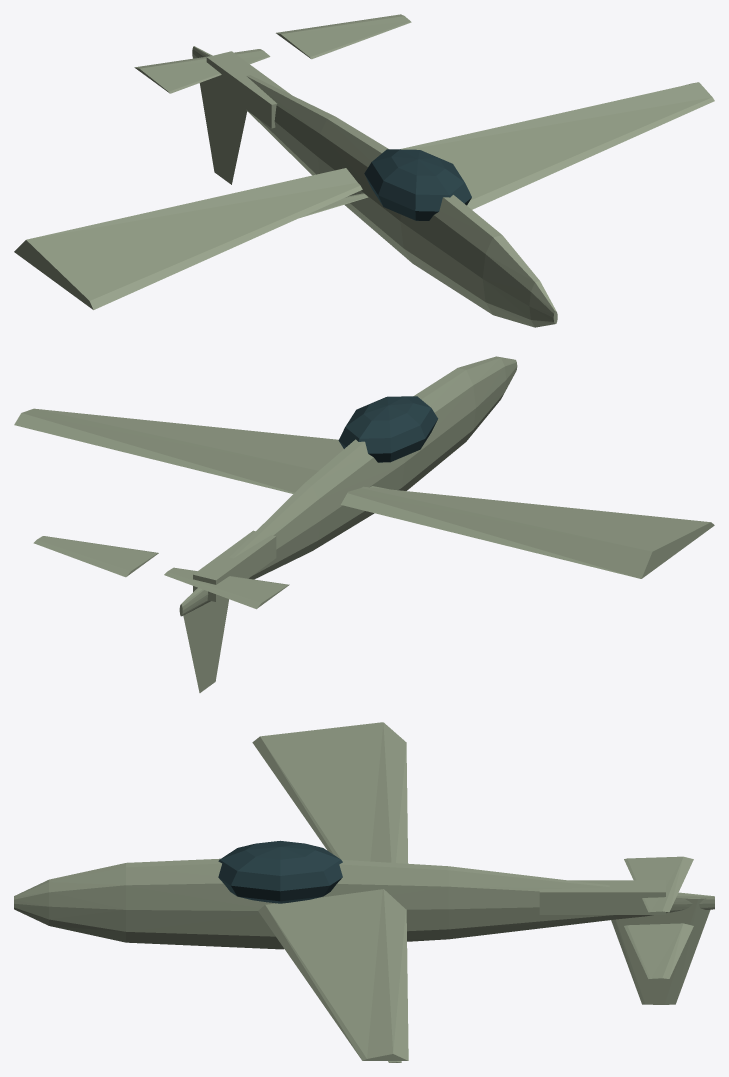
3 views of the same model, one above another, from view 1: azimuth 30°, elevation 25°; view 2: azimuth 150°, elevation 25°; view 3: azimuth 270°, elevation 25° (orthographic). The views are drawn at different scales.
Visible parts, largest first — view 1: Wing_L, Fuselage, Wing_R, Cockpit, Rudder, TailBoom, Elevator_R, Elevator_L; view 2: Fuselage, Wing_L, Wing_R, Cockpit, Rudder, Elevator_R, TailBoom, Elevator_L; view 3: Fuselage, Wing_R, Wing_L, Cockpit, Rudder, TailBoom, Elevator_R, Elevator_L.
Part boxes in pixels (box(x1,y1,x2,y2)): Wing_L: box(14, 168, 362, 309); Fuselage: box(192, 46, 557, 327); Wing_R: box(400, 82, 714, 209); Cockpit: box(364, 149, 471, 220); Rudder: box(199, 80, 247, 184); TailBoom: box(206, 51, 290, 128); Elevator_R: box(276, 14, 411, 59); Elevator_L: box(134, 49, 270, 93); Fuselage: box(179, 356, 517, 616); Wing_L: box(341, 486, 714, 578); Wing_R: box(14, 408, 343, 493); Cockpit: box(338, 396, 437, 462); Rudder: box(183, 597, 228, 692); Elevator_R: box(33, 536, 158, 577); TailBoom: box(193, 530, 276, 601); Elevator_L: box(164, 567, 289, 609); Fuselage: box(14, 858, 714, 949); Wing_R: box(258, 889, 408, 1060); Wing_L: box(252, 722, 407, 863); Cockpit: box(218, 840, 342, 903); Rudder: box(611, 898, 710, 1004); TailBoom: box(539, 880, 665, 914); Elevator_R: box(624, 923, 693, 979); Elevator_L: box(624, 856, 693, 912).
Size of the model in its own units: 11.9 by 2.73 by 11.
